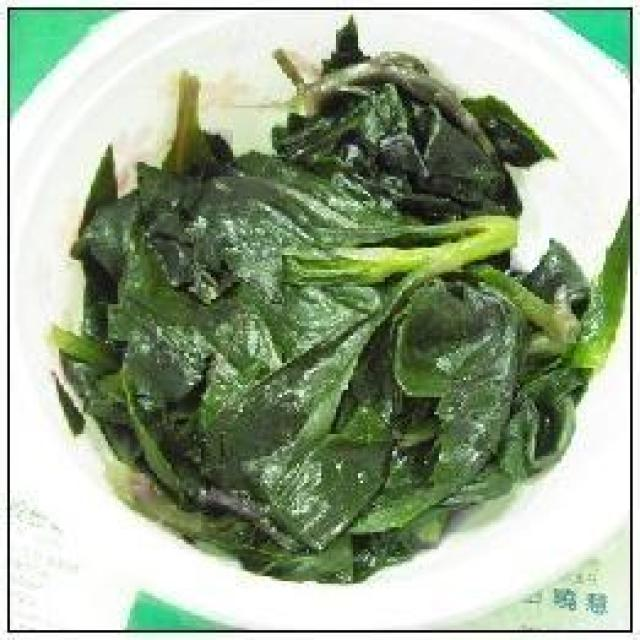-Kitchen waste - vegetable roots and leaves-: (162, 216, 513, 353)
